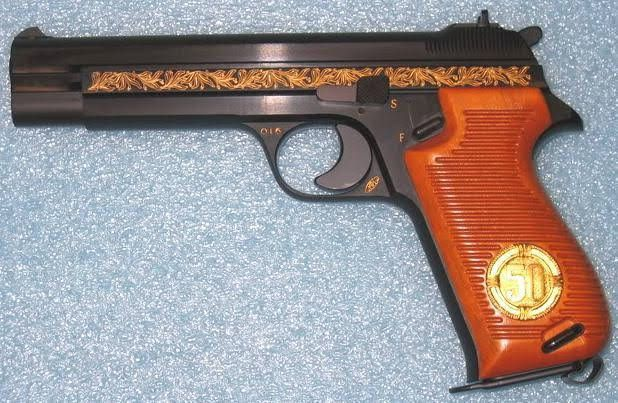gun: (3, 12, 586, 377)
